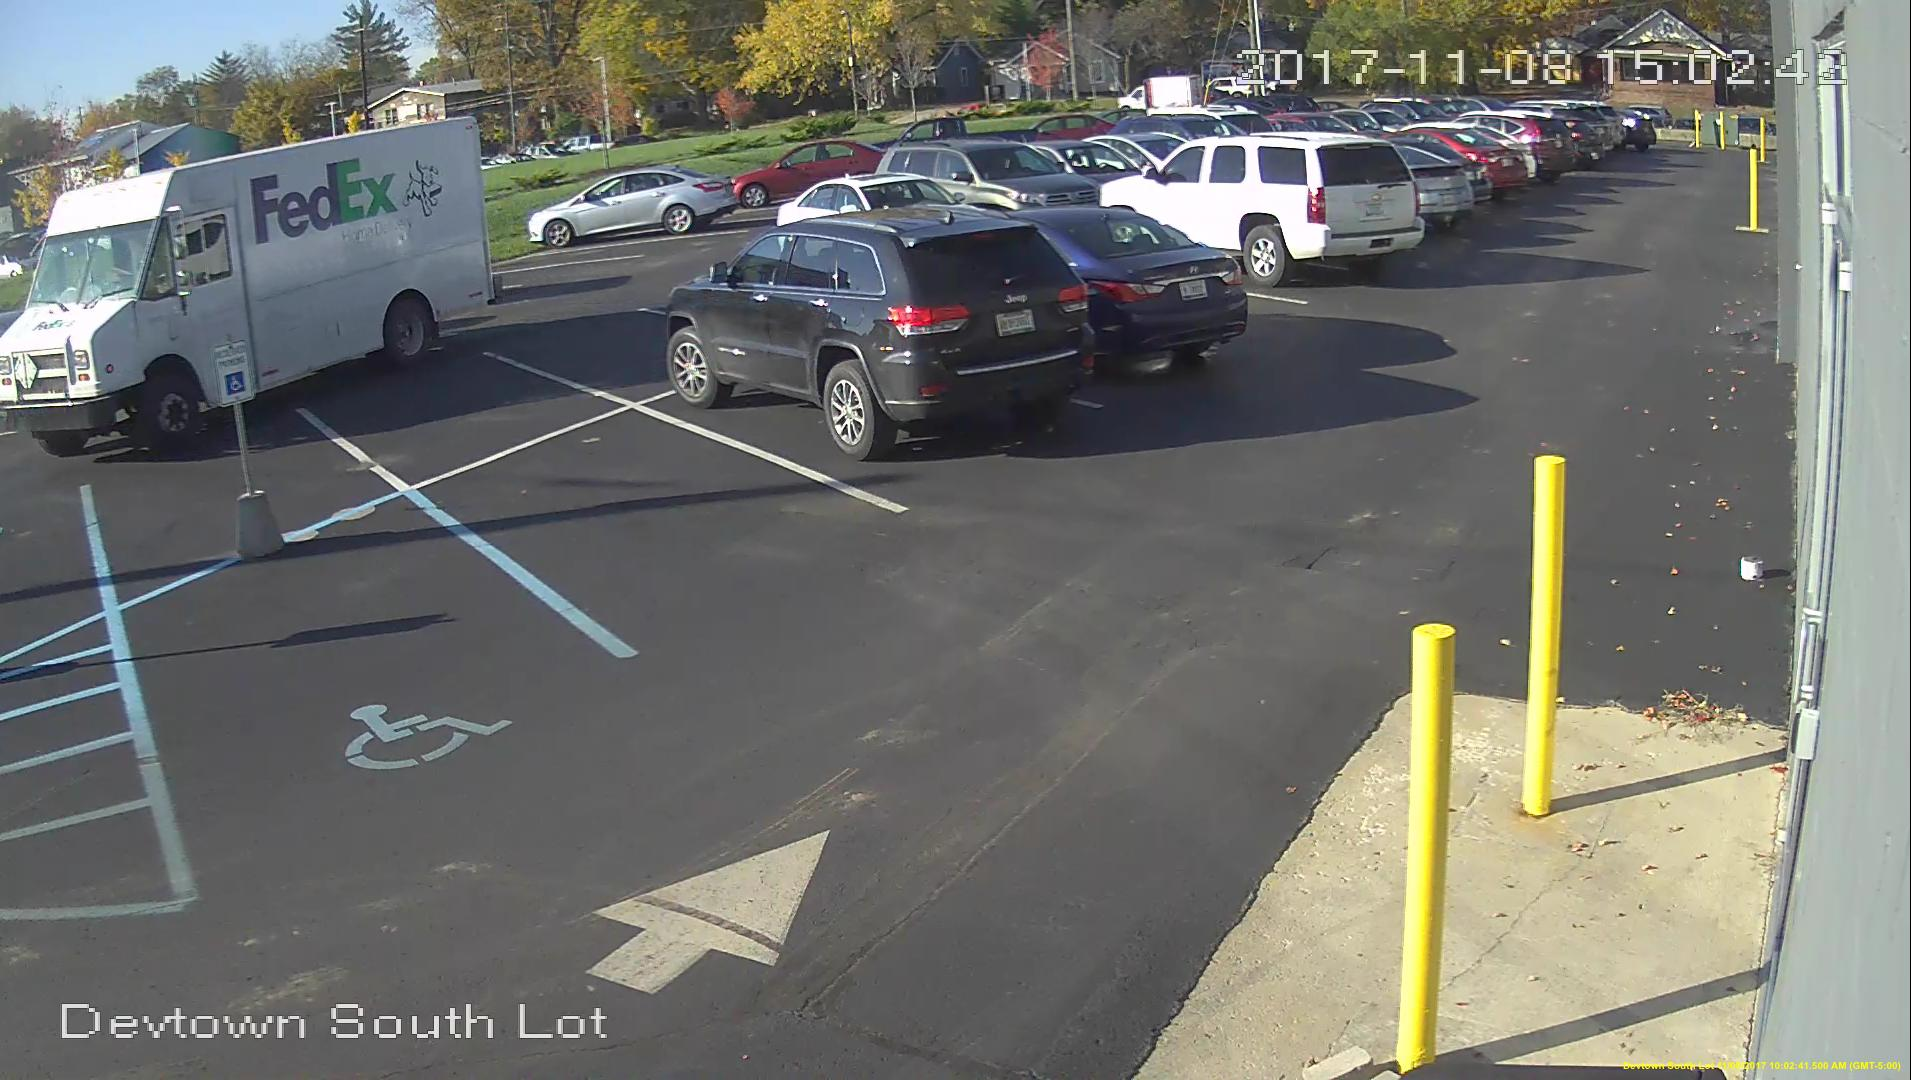fedex_truck: (1, 112, 497, 451)
